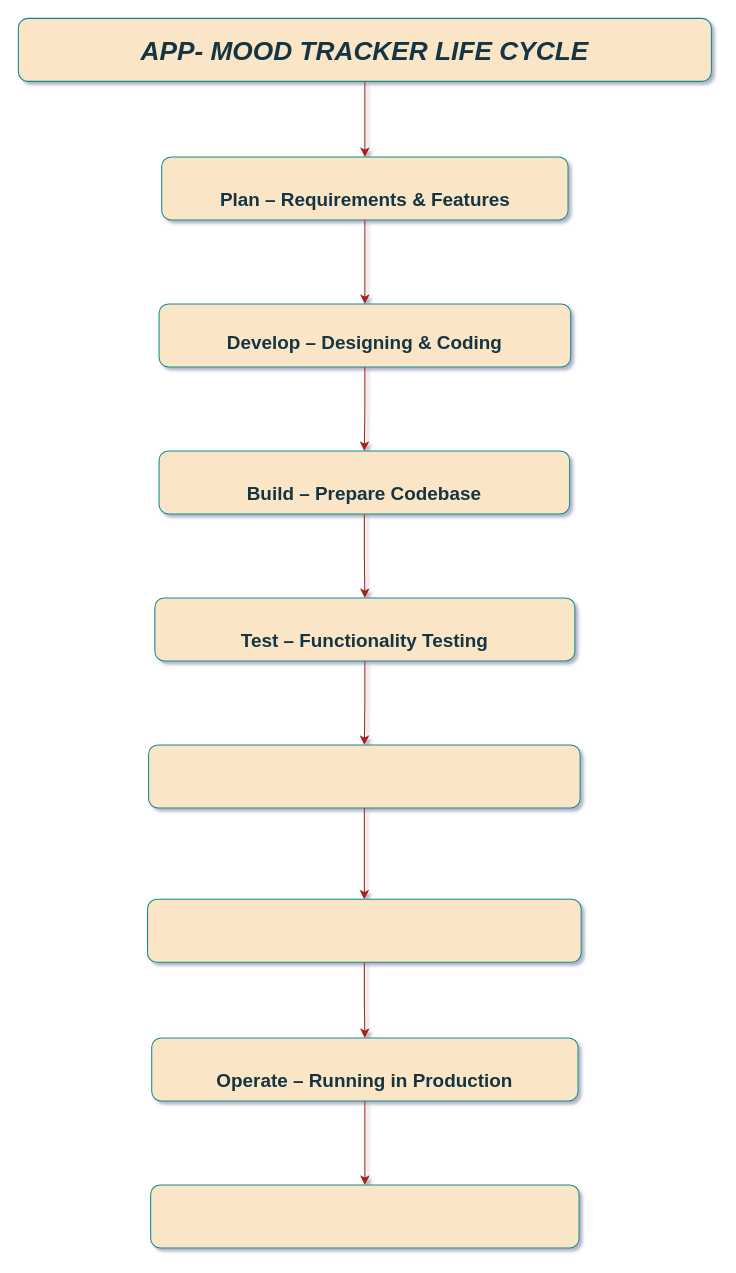
Image size: 736x1273. Some labels were removed from this diagram. The box of each missing label's shape, as (x1, y1, x2, y2) in pixels:
Deploy – Hosting the Application: (146, 898, 581, 962)
Monitor – Feedback & Improvements: (150, 1184, 579, 1248)
Release – Versioning & Distribution: (148, 744, 580, 808)
